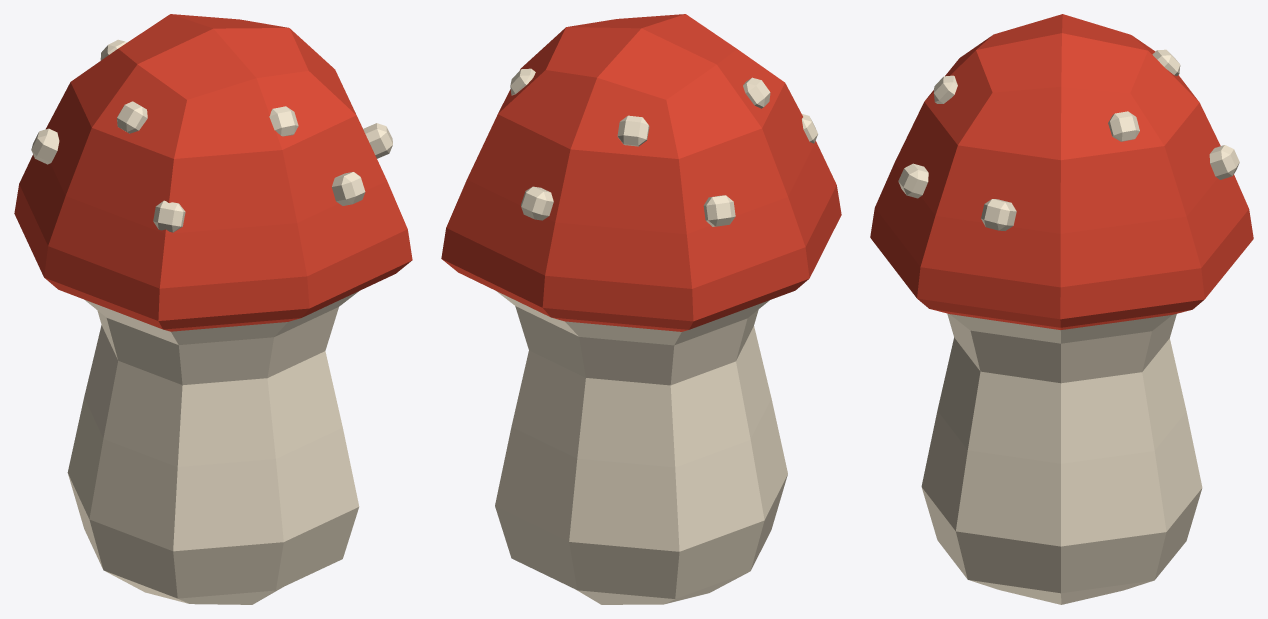
File: mushroom-b.glb
3 views of the same model, side by side, from view 1: azimuth 30°, elevation 25°; view 2: azimuth 150°, elevation 25°; view 3: azimuth 270°, elevation 25° (orthographic).
Visible parts, largest first — view 1: Mushroom_2; view 2: Mushroom_2; view 3: Mushroom_2.
Part boxes in pixels (x1=…): Mushroom_2: x1=14, y1=14, x2=412, y2=604; Mushroom_2: x1=441, y1=14, x2=841, y2=604; Mushroom_2: x1=870, y1=14, x2=1253, y2=604.
Size of the model in its own units: 0.601 by 0.95 by 0.601.
